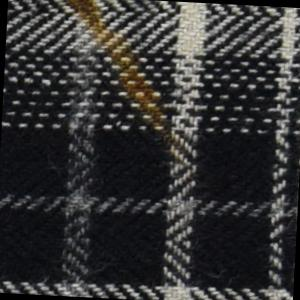Oil Stain: (48, 1, 200, 170)
